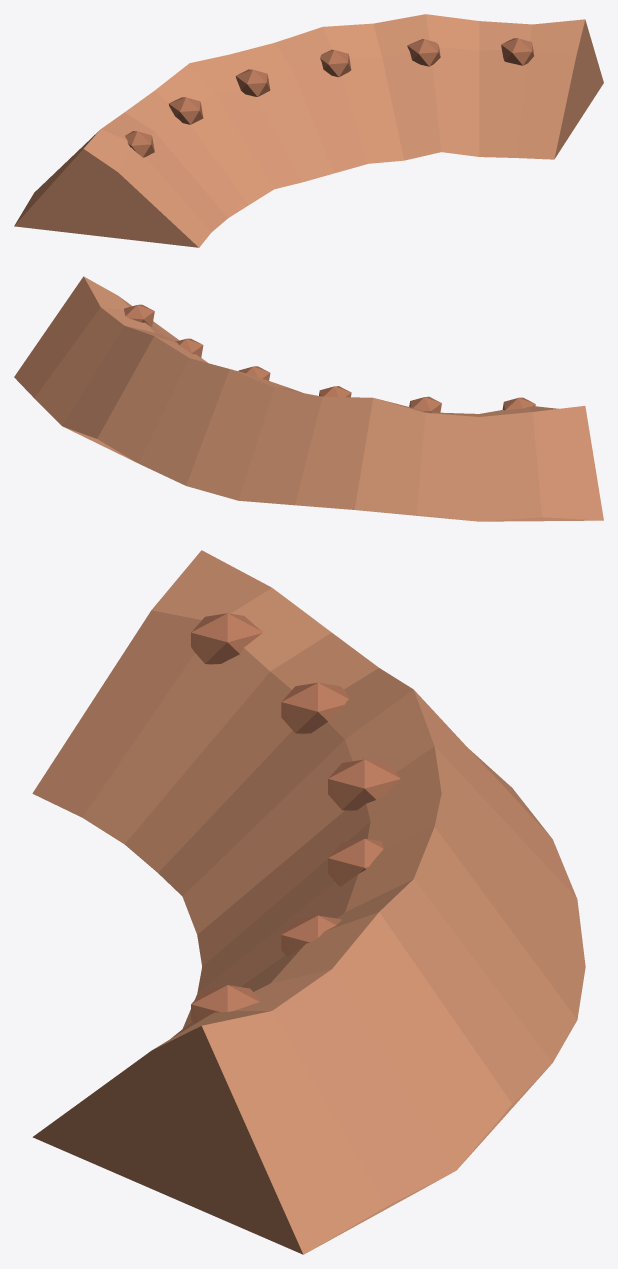
The model's file is Crater_Rim_02.glb.
The picture shows the model from 3 angles, top to bottom: view 1: azimuth 30°, elevation 25°; view 2: azimuth 150°, elevation 25°; view 3: azimuth 270°, elevation 25°; orthographic projection. The views are drawn at different scales.
Visible parts, largest first — view 1: Layered crater ridge.001, Ridge scree.008, Ridge scree.011, Ridge scree.007, Ridge scree.010, Ridge scree.009, Ridge scree.006; view 2: Layered crater ridge.001, Ridge scree.011, Ridge scree.007; view 3: Layered crater ridge.001, Ridge scree.008, Ridge scree.006, Ridge scree.007, Ridge scree.009, Ridge scree.011, Ridge scree.010.
Part boxes in pixels (x1,y1,x2,y2): Layered crater ridge.001: [14, 14, 603, 247]; Ridge scree.008: [235, 69, 270, 96]; Ridge scree.011: [501, 38, 534, 65]; Ridge scree.007: [169, 97, 203, 124]; Ridge scree.010: [407, 39, 440, 66]; Ridge scree.009: [320, 49, 351, 77]; Ridge scree.006: [125, 131, 154, 157]; Layered crater ridge.001: [14, 276, 603, 521]; Ridge scree.011: [124, 304, 154, 326]; Ridge scree.007: [409, 396, 441, 412]; Layered crater ridge.001: [32, 550, 585, 1254]; Ridge scree.008: [328, 759, 400, 811]; Ridge scree.006: [191, 613, 262, 664]; Ridge scree.007: [281, 682, 348, 734]; Ridge scree.009: [328, 838, 383, 886]; Ridge scree.011: [191, 985, 259, 1023]; Ridge scree.010: [281, 915, 341, 955].
Bounding box in the file's own units: 7.28 × 1.11 × 2.96.
